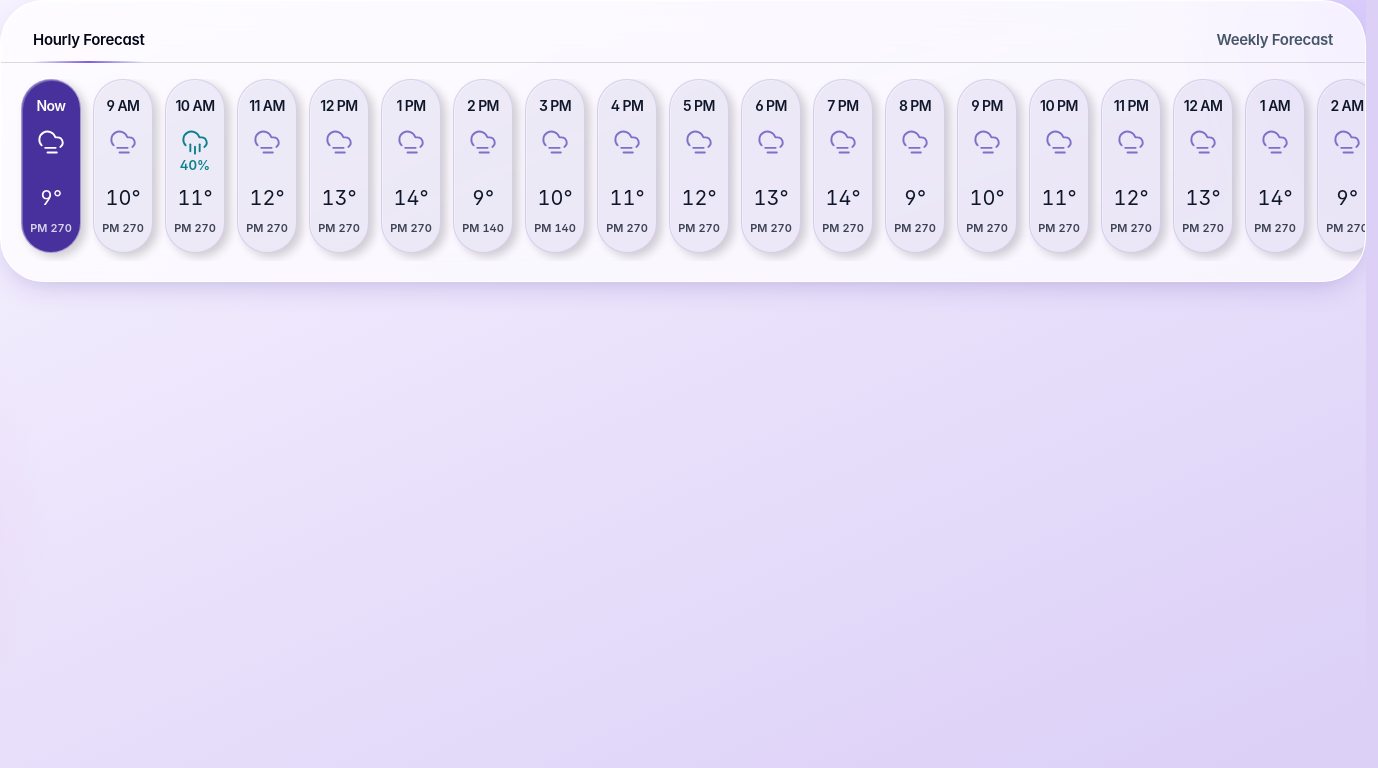
Scenario: ForecastSheet › shows the next hours with temperature, rain chance and PM2.5, then the week
Expected: the list item "Now 9° PM 270" is shown, [21,79,81,253]
Expected: the list item "10 AM 40% 11° PM 270" is shown, [165,79,225,253]
Click the tab "Weekly Forecast" at point(1275, 40), box [1216,18,1333,62]
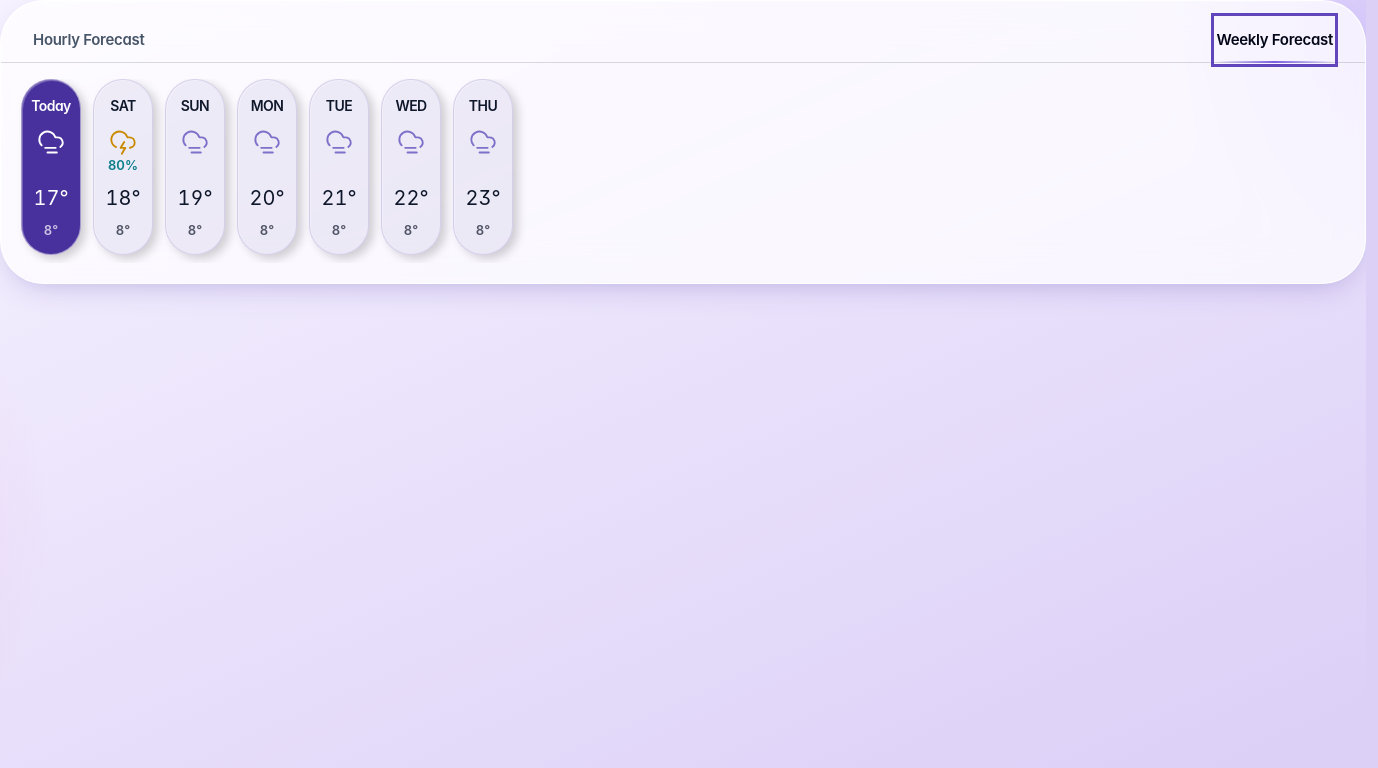
Expected: the number of list items is 7
Expected: the list item "Today 17° 8°" is shown, [21,79,81,255]
Expected: the list item "SAT 80% 18° 8°" is shown, [93,79,153,255]
